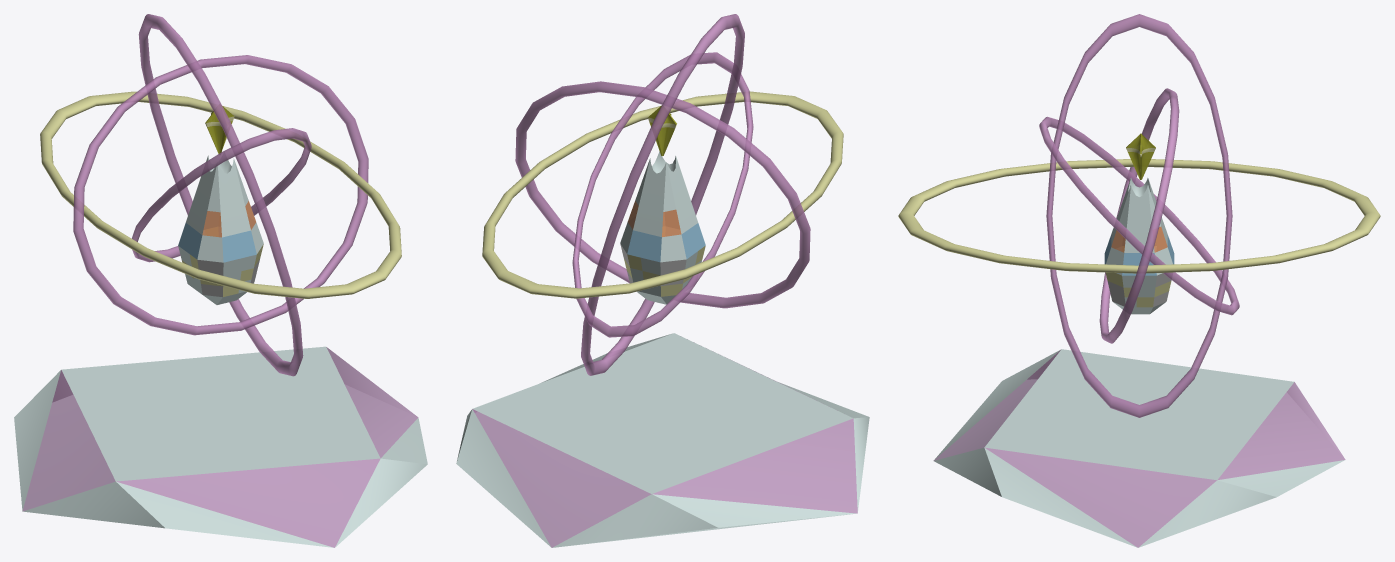
File: sTower.fbx
3 views of the same model, side by side, from view 1: azimuth 30°, elevation 25°; view 2: azimuth 150°, elevation 25°; view 3: azimuth 270°, elevation 25° (orthographic). The views are drawn at different scales.
Visible parts, largest first — view 1: polySurface12, polySurface8, polySurface6, polySurface10, polySurface7, polySurface5, polySurface11; view 2: polySurface12, polySurface6, polySurface10, polySurface8, polySurface7, polySurface5, polySurface11; view 3: polySurface12, polySurface6, polySurface7, polySurface10, polySurface5, polySurface8, polySurface11.
Part boxes in pixels (<box>): polySurface12: <box>14,346,427,547</box>; polySurface8: <box>73,55,368,335</box>; polySurface6: <box>40,91,401,298</box>; polySurface10: <box>178,155,263,304</box>; polySurface7: <box>138,14,303,376</box>; polySurface5: <box>132,128,311,262</box>; polySurface11: <box>205,106,234,153</box>; polySurface12: <box>456,333,869,547</box>; polySurface6: <box>482,91,843,298</box>; polySurface10: <box>620,151,705,304</box>; polySurface8: <box>515,81,810,308</box>; polySurface7: <box>581,14,744,375</box>; polySurface5: <box>572,52,753,337</box>; polySurface11: <box>647,106,676,155</box>; polySurface12: <box>933,349,1345,547</box>; polySurface6: <box>898,159,1380,273</box>; polySurface7: <box>1046,14,1232,417</box>; polySurface10: <box>1104,178,1174,314</box>; polySurface5: <box>1039,116,1239,315</box>; polySurface8: <box>1099,88,1179,343</box>; polySurface11: <box>1126,133,1155,179</box>.
Size of the model in its own units: 7.62 by 8.62 by 8.91.
